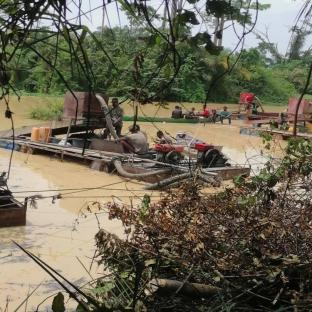ProcessingEquipment: (0, 130, 242, 201), (147, 90, 312, 146), (149, 134, 190, 168), (193, 136, 226, 167)
